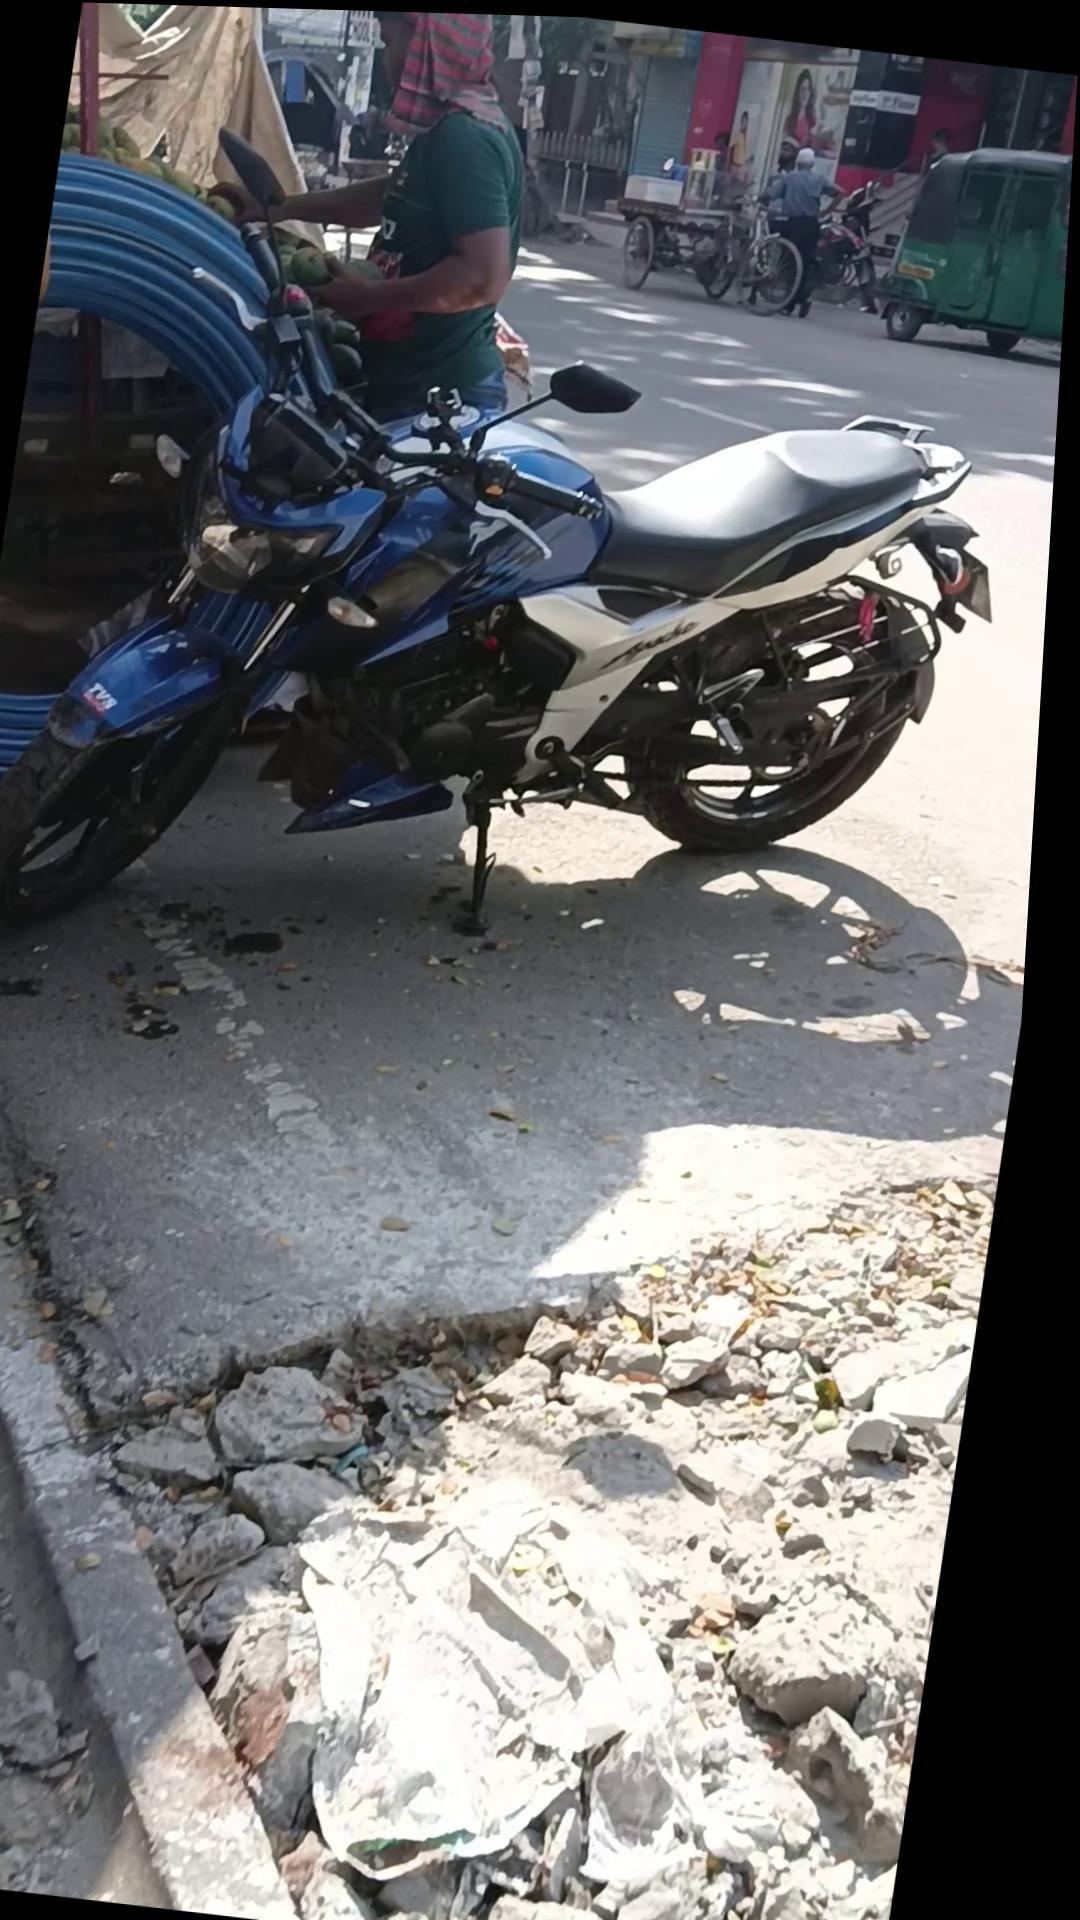Bench: (0, 1055, 1017, 1920)
Broken-road: (0, 1015, 443, 1920)
Construction-barrier: (0, 112, 1060, 1085)
Curb: (746, 137, 852, 316)
Muddy road: (872, 123, 1075, 365)
Obstacle: (671, 26, 1080, 272)
